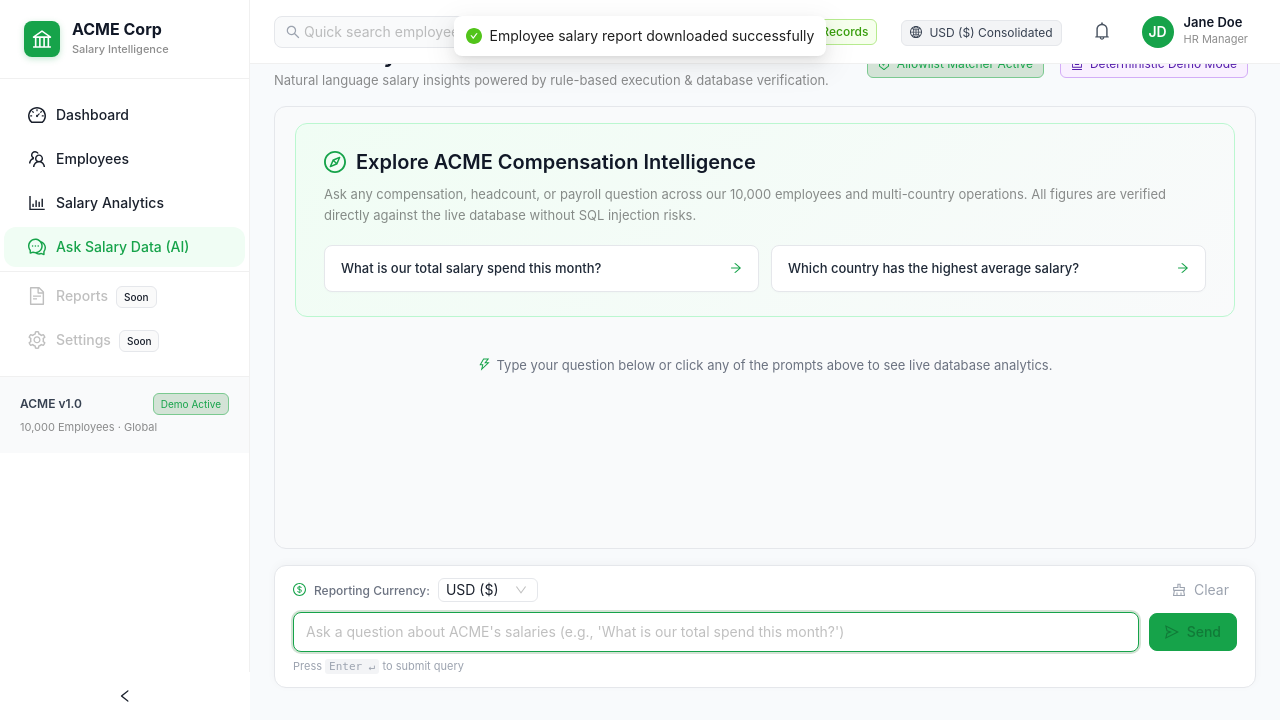
Test: PR 13 End-to-End HR Manager Workflows › Journey 4: Interactive Natural Language AI Query Cycle
The image size is (1280, 720).
(page scrolled)
Expected: the heading "Ask Salary Data (AI)" is shown, 274,39 -> 505,68
Expected: the text "Deterministic Demo Mode" is shown, 1090,56 -> 1237,71
# Ask Question
Type "What is our total salary spend this month?" into the field named "Natural language query input". click: (716, 632)
box: 293,612 -> 1139,652
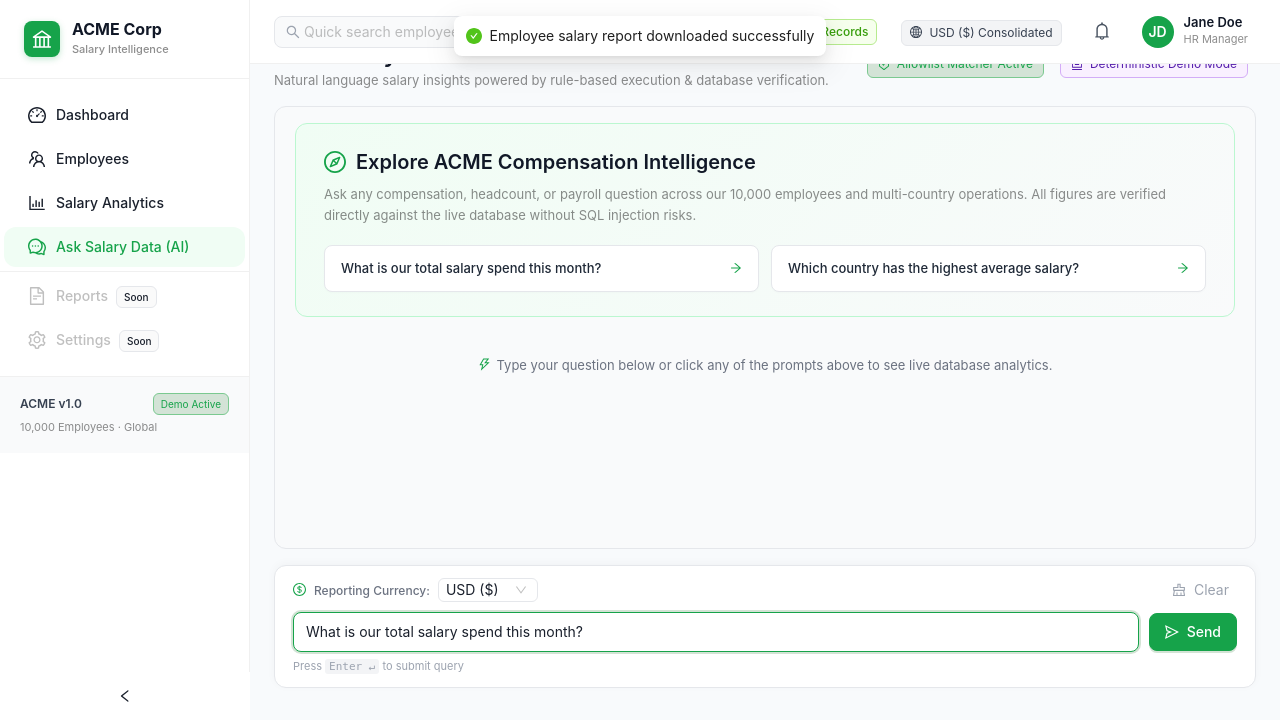
Click the button with aria-label "Send Query". click: click(1193, 632)
box: 1149,613 -> 1237,651
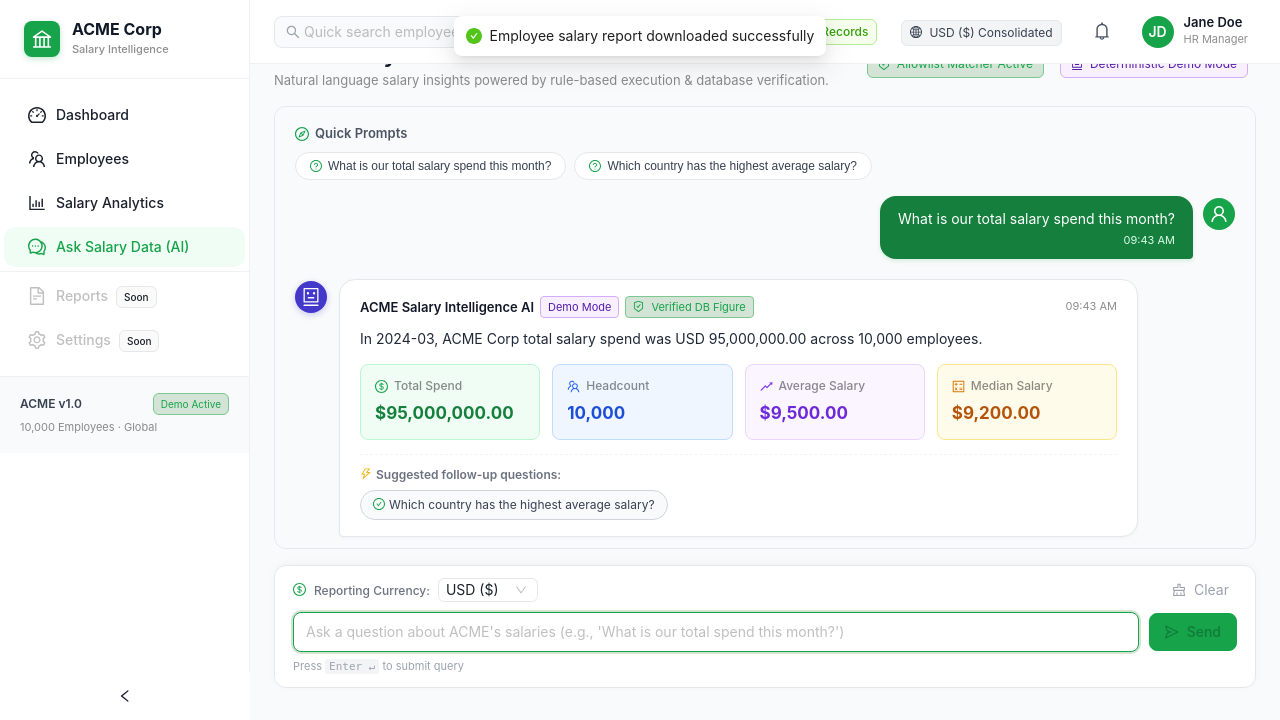
Expected: the text "In 2024-03, ACME Corp total salary spend was USD 95,000,000.00 across 10,000 employees." is shown, 360,330 -> 982,347
Expected: the element with test id "ai-metric-results" is shown, 360,364 -> 1117,440
